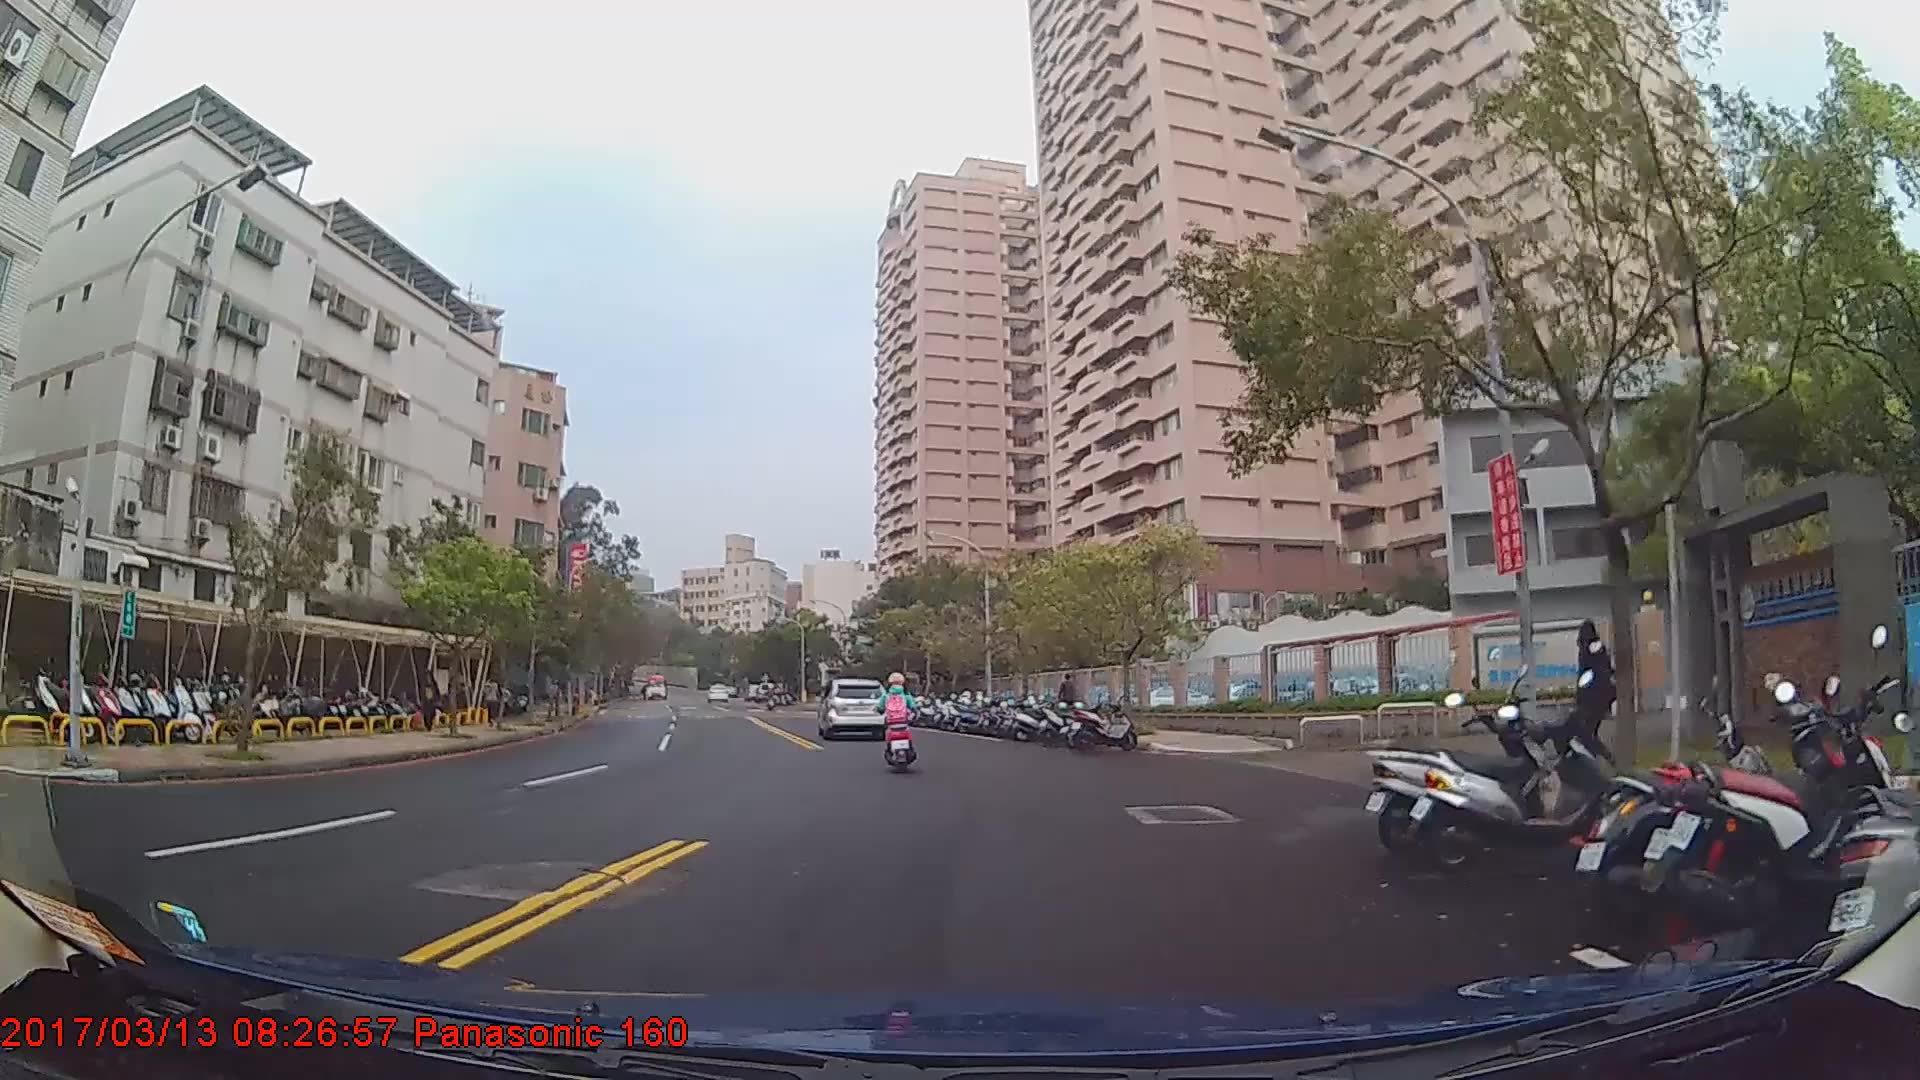pedestrian: (1572, 619, 1618, 774), (415, 670, 442, 730), (1059, 672, 1079, 729)
rider: (879, 669, 922, 766)
vehicle: (815, 672, 890, 737), (642, 668, 670, 700)
